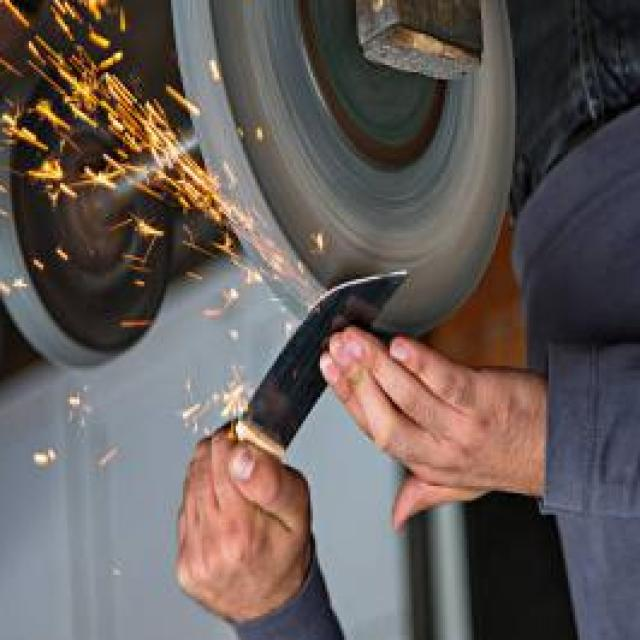knife: (178, 264, 413, 566)
